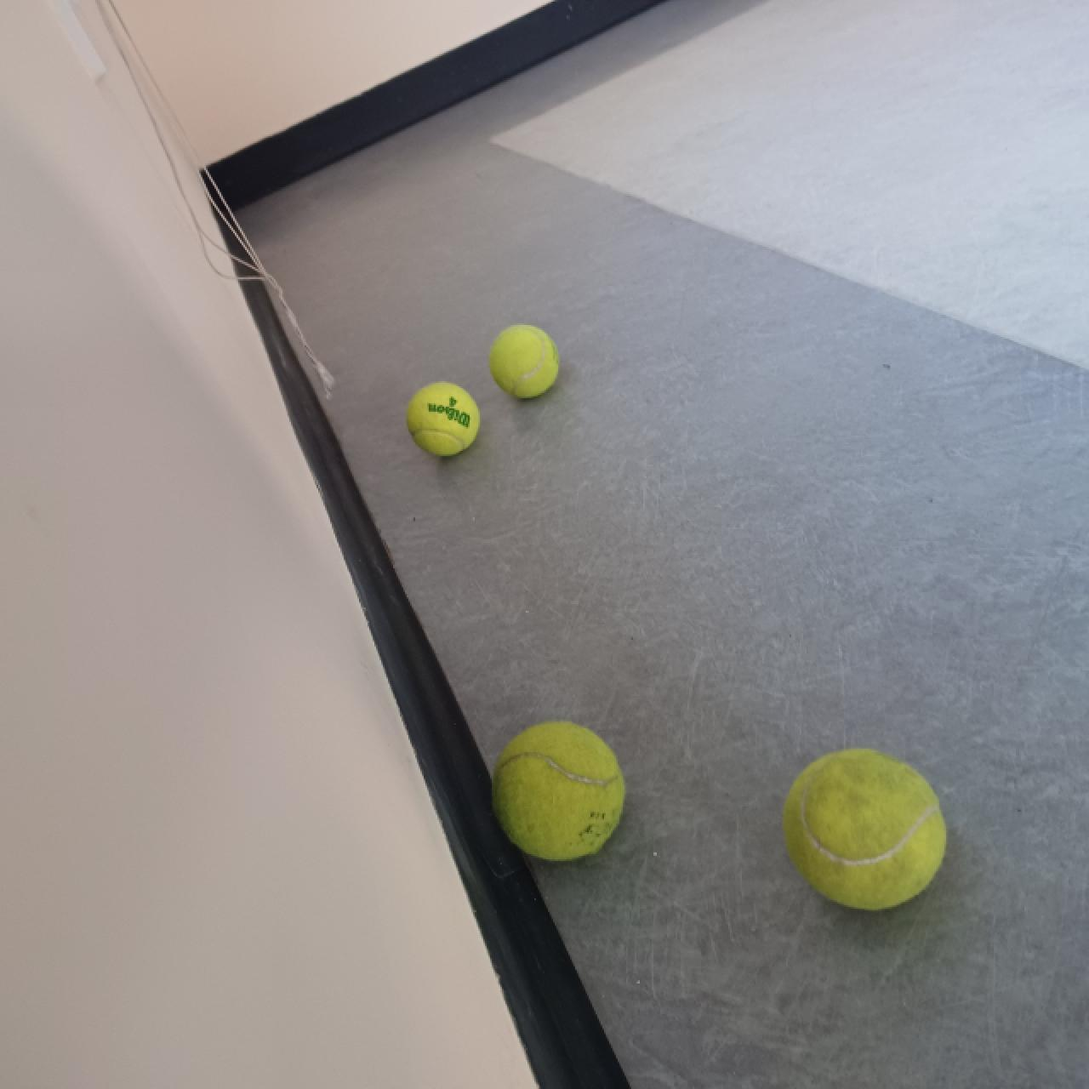tennis-ball: (783, 746, 947, 913), (489, 719, 629, 861), (406, 379, 482, 459), (487, 324, 562, 403)
